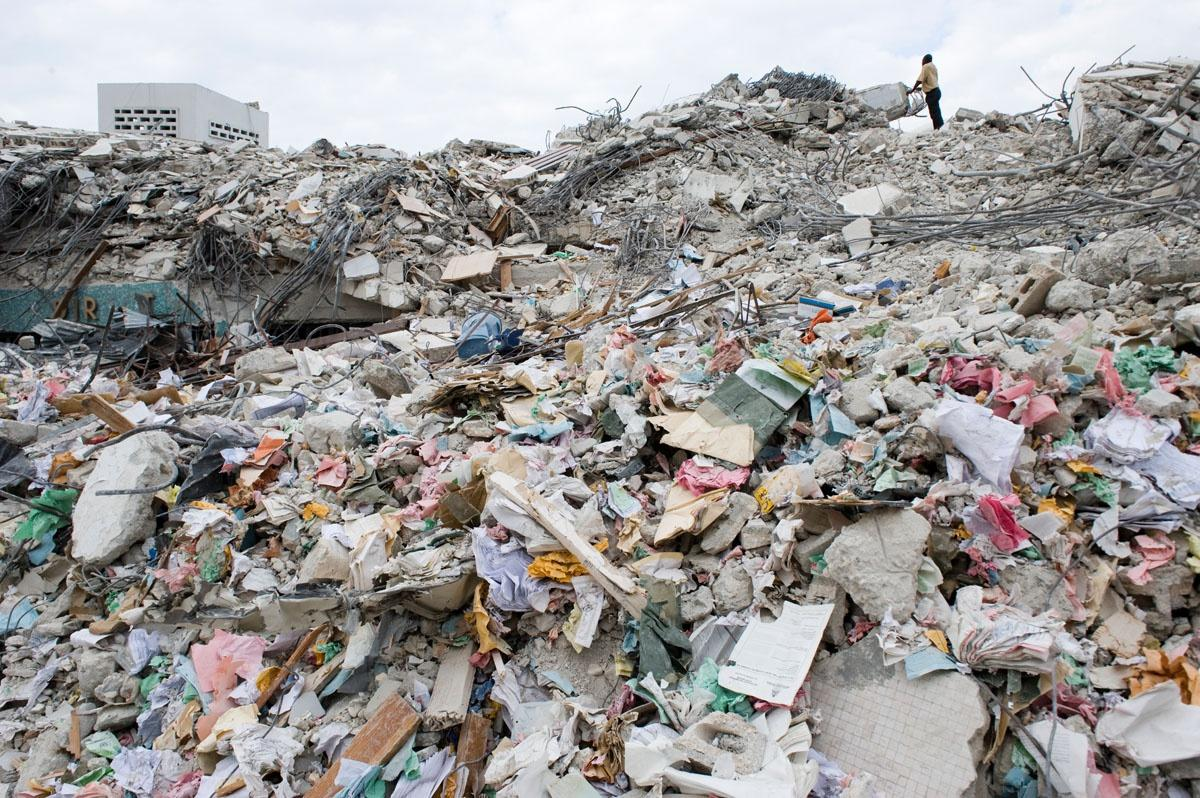victim: (908, 52, 955, 134)
